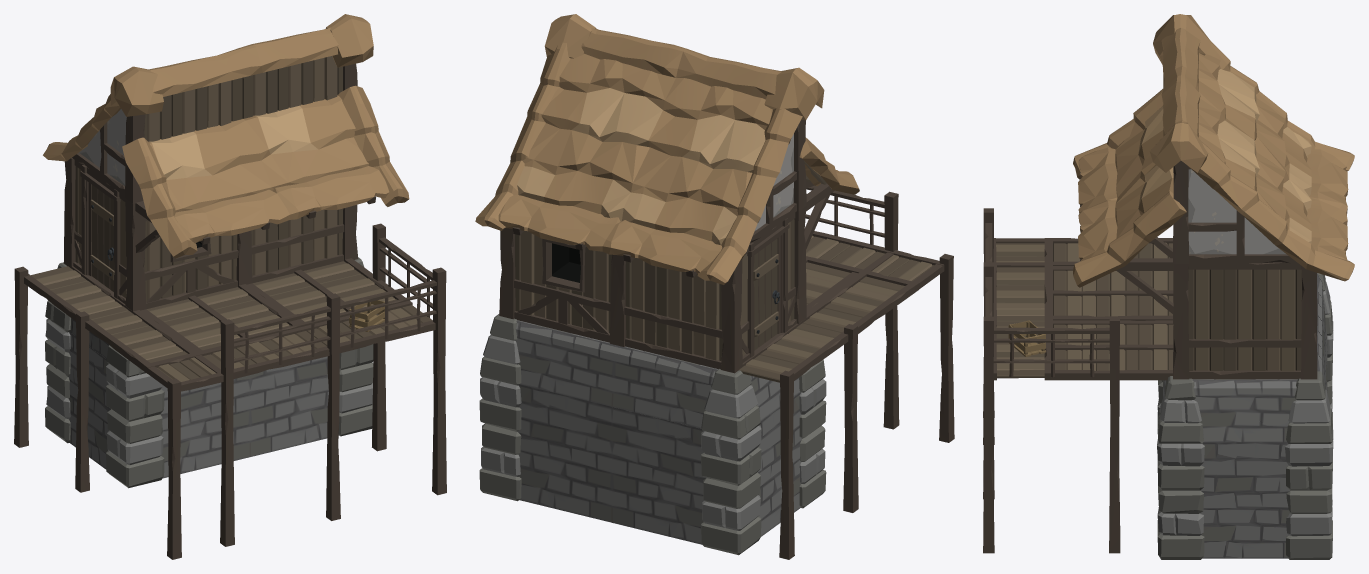
File: SM_Bld_Preset_Hut_01_Optimized.glb
The picture shows the model from 3 angles, left to right: view 1: azimuth 30°, elevation 25°; view 2: azimuth 150°, elevation 25°; view 3: azimuth 270°, elevation 25°; orthographic projection. The views are drawn at different scales.
Parts seen in each view (by area): view 1: SM_Bld_Preset_Hut_01_Optimized; view 2: SM_Bld_Preset_Hut_01_Optimized; view 3: SM_Bld_Preset_Hut_01_Optimized.
Part boxes in pixels (box(x1,y1,x2,y2)): SM_Bld_Preset_Hut_01_Optimized: box(14, 14, 446, 559); SM_Bld_Preset_Hut_01_Optimized: box(475, 14, 954, 559); SM_Bld_Preset_Hut_01_Optimized: box(983, 14, 1354, 559).
Bounding box in the file's own units: 6.87 × 9.24 × 7.25.
Materials: 1 (1 with a texture image).
